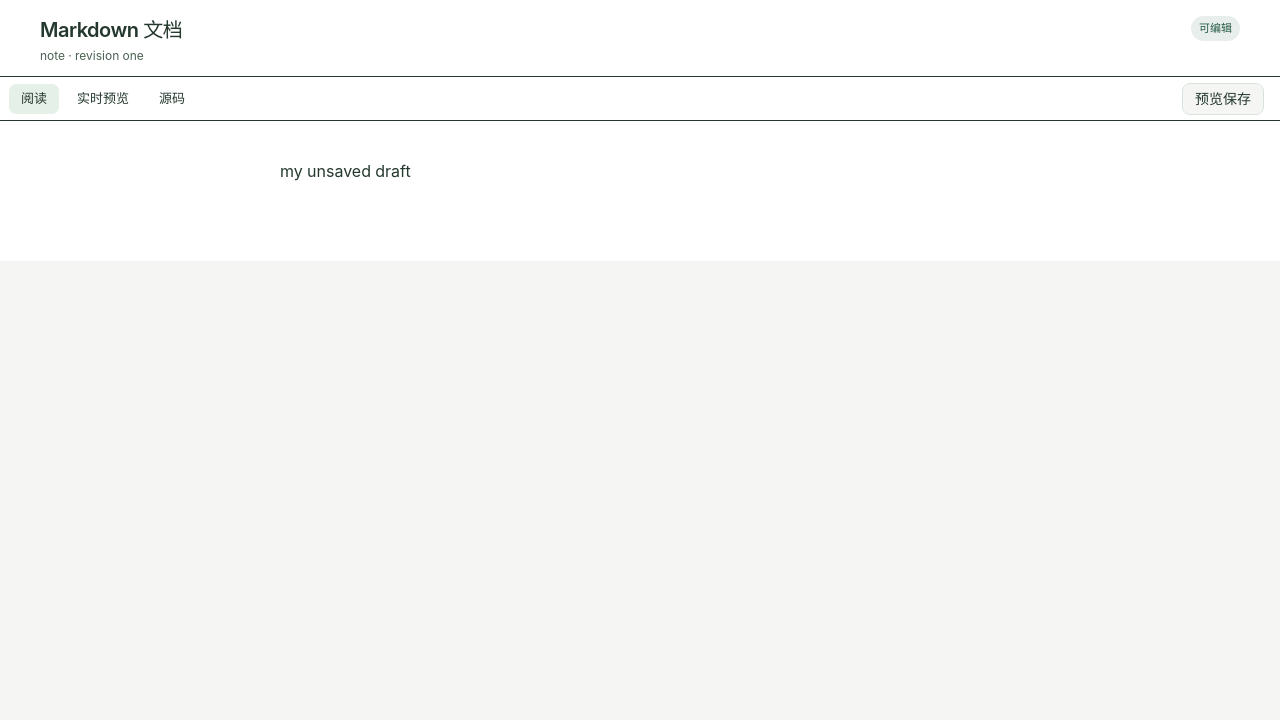
Test: does not discard a local draft when recovering another tab's completed write
Step 1. Click the button "预览保存" → (1223, 98), box [1182,82,1264,114]
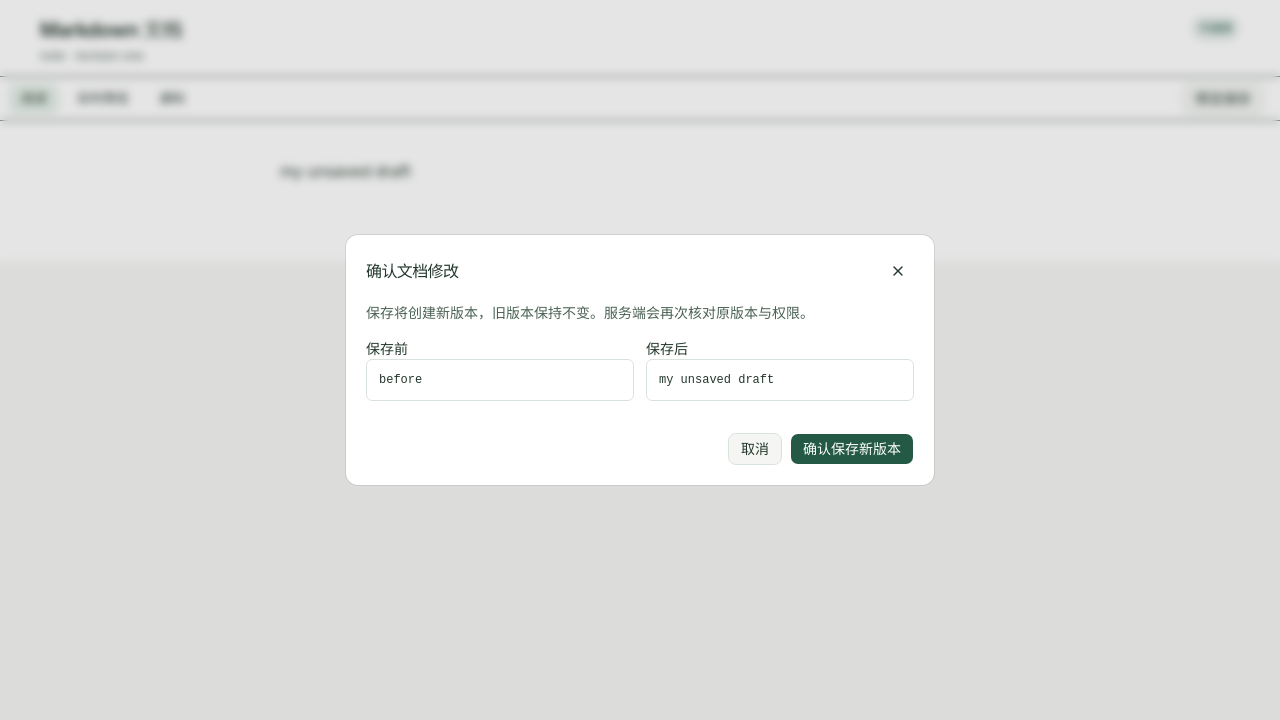
Step 2. Click the button "确认保存新版本" → (852, 449), box [790,433,914,465]
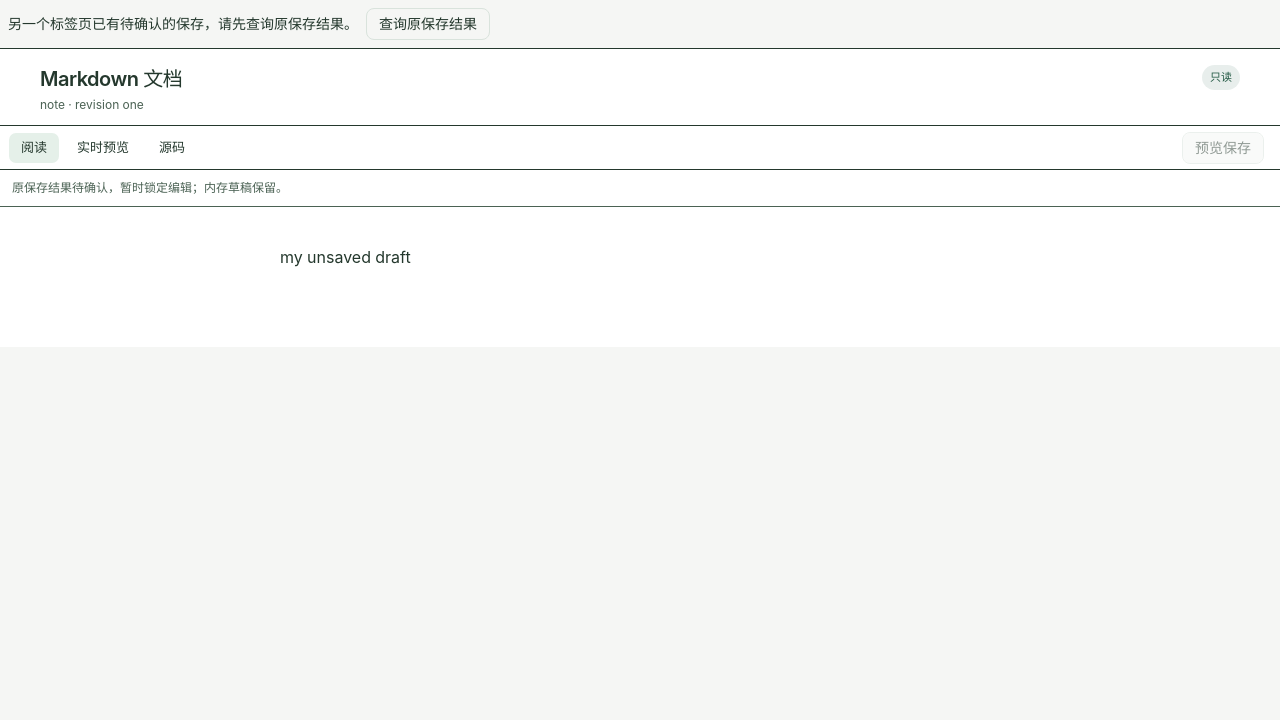
Expected: the text "另一个标签页已有待确认的保存，请先查询原保存结果。" is shown, [8,14,358,34]
Step 3. Click the button "查询原保存结果" → (428, 24), box [366,8,490,40]
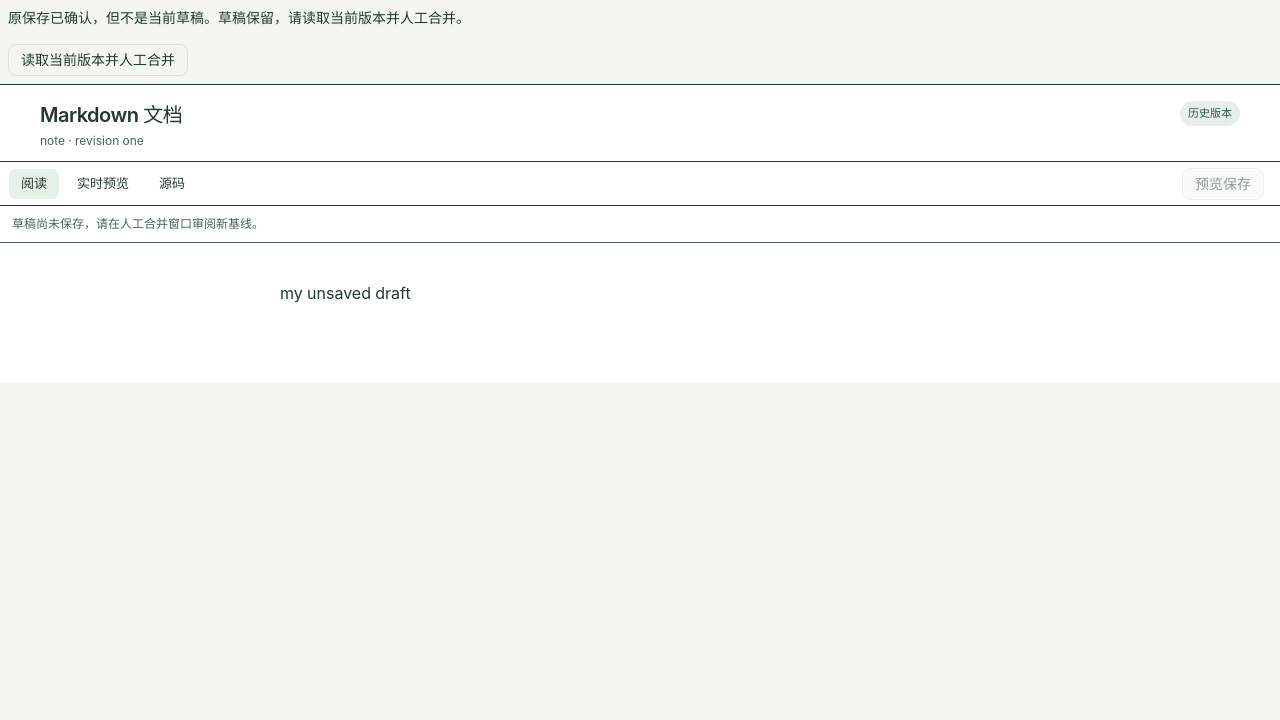
Expected: the text "my unsaved draft" is shown, [280,283,411,303]
Expected: the text "原保存已确认，但不是当前草稿。草稿保留，请读取当前版本并人工合并。" is shown, [8,9,470,26]
